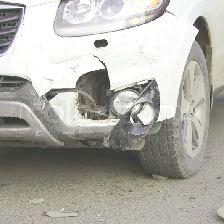head_lamp: (32, 8, 184, 150)
